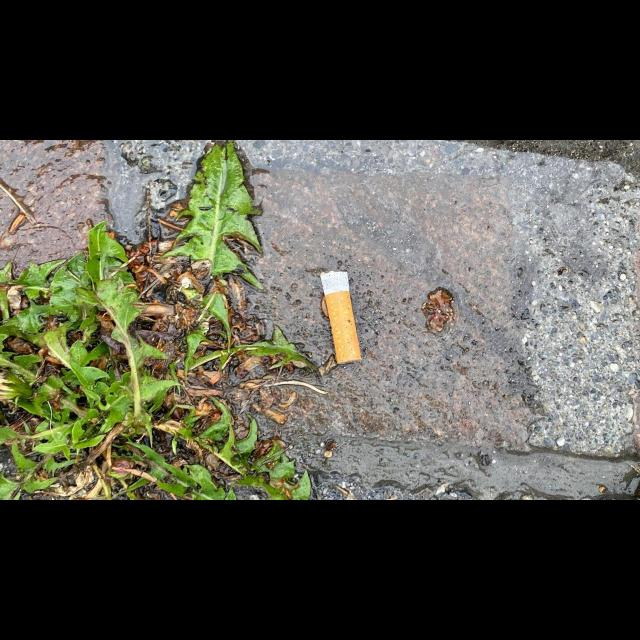cigarette: (319, 270, 363, 364)
